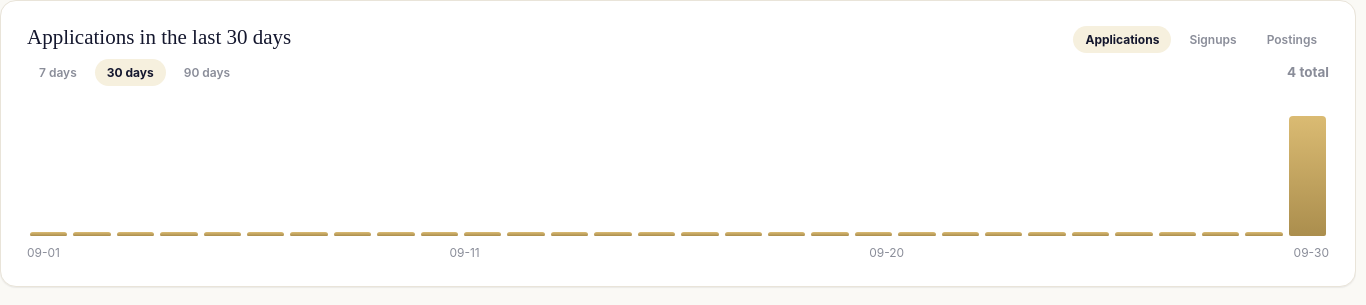
Test: Overview — Activity trend (ActivityTrend) › refetches from /admin/analytics/trend when the period is changed
Expected: the heading "Applications in the last 30 days" is shown, [27, 25, 291, 50]
Click the button "7 days" at (58, 72), box [27, 59, 89, 86]
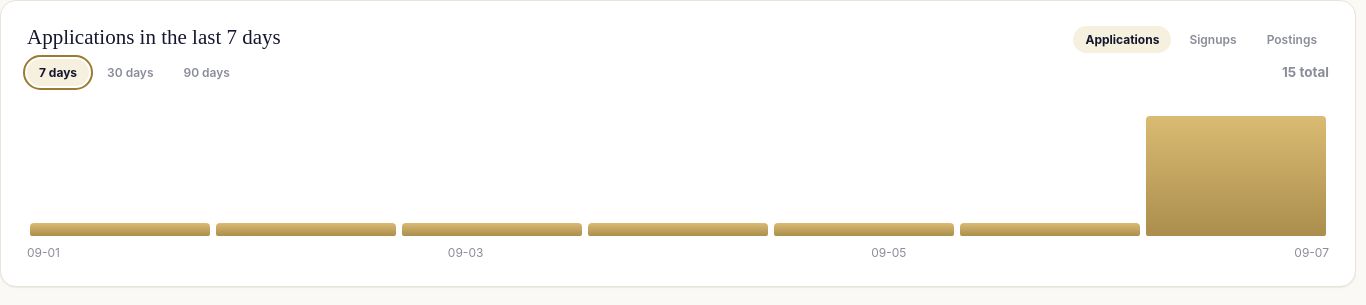
Now the heading "Applications in the last 7 days" is shown, box [27, 25, 281, 50]
Now the text "15 total" is shown, box [1282, 62, 1329, 83]
